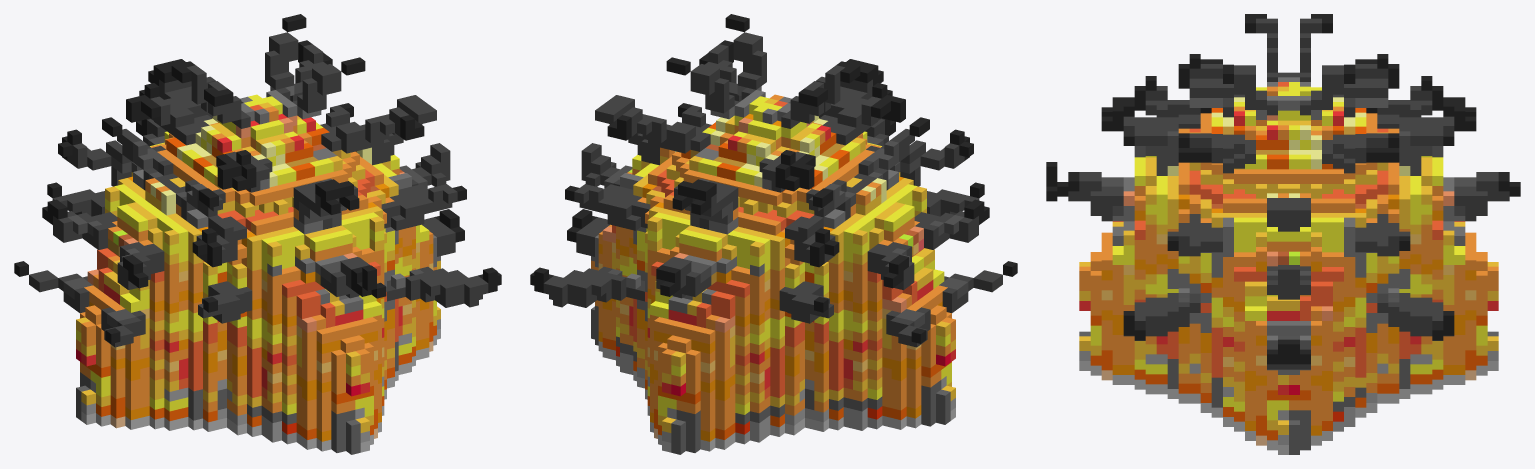
Rendered from Explosion4.obj.
3 renders of one model, left to right at view 1: azimuth 30°, elevation 25°; view 2: azimuth 150°, elevation 25°; view 3: azimuth 270°, elevation 25°, orthographic. The views are drawn at different scales.
Size of the model in its own units: 4.2 by 3.3 by 4.3.
Materials: 1 (1 with a texture image).
